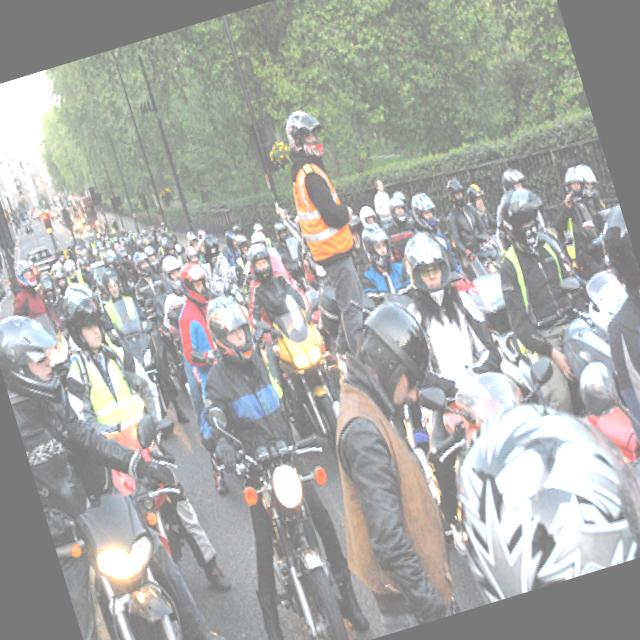Vehicle: (22, 397, 246, 640), (200, 370, 356, 574), (247, 294, 365, 467), (409, 352, 571, 470), (571, 340, 640, 560), (542, 258, 640, 388), (485, 292, 602, 398), (103, 292, 182, 421), (267, 535, 350, 640), (587, 402, 640, 469), (278, 236, 312, 288), (24, 242, 60, 276), (472, 234, 502, 264), (190, 346, 216, 371), (0, 265, 8, 301), (29, 207, 41, 219), (22, 222, 32, 232)
